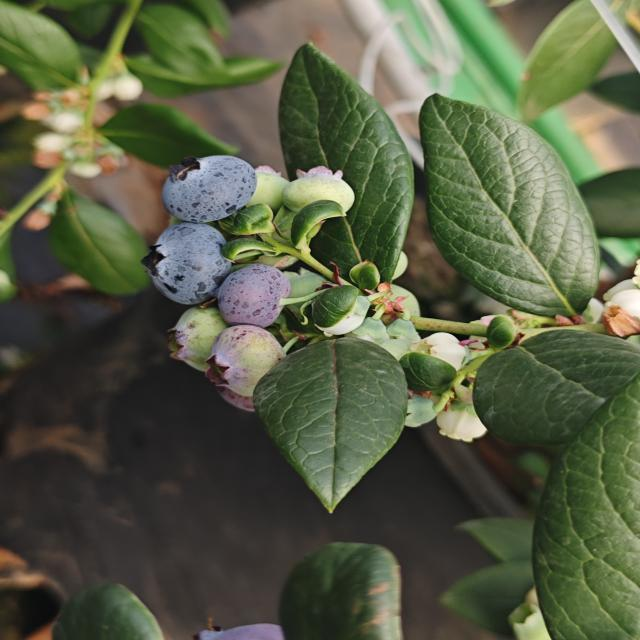ripe: (139, 221, 233, 307), (159, 153, 259, 225), (215, 262, 292, 329)
